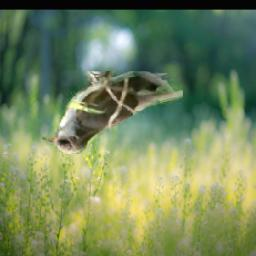Cuckoo: (43, 71, 184, 154)
